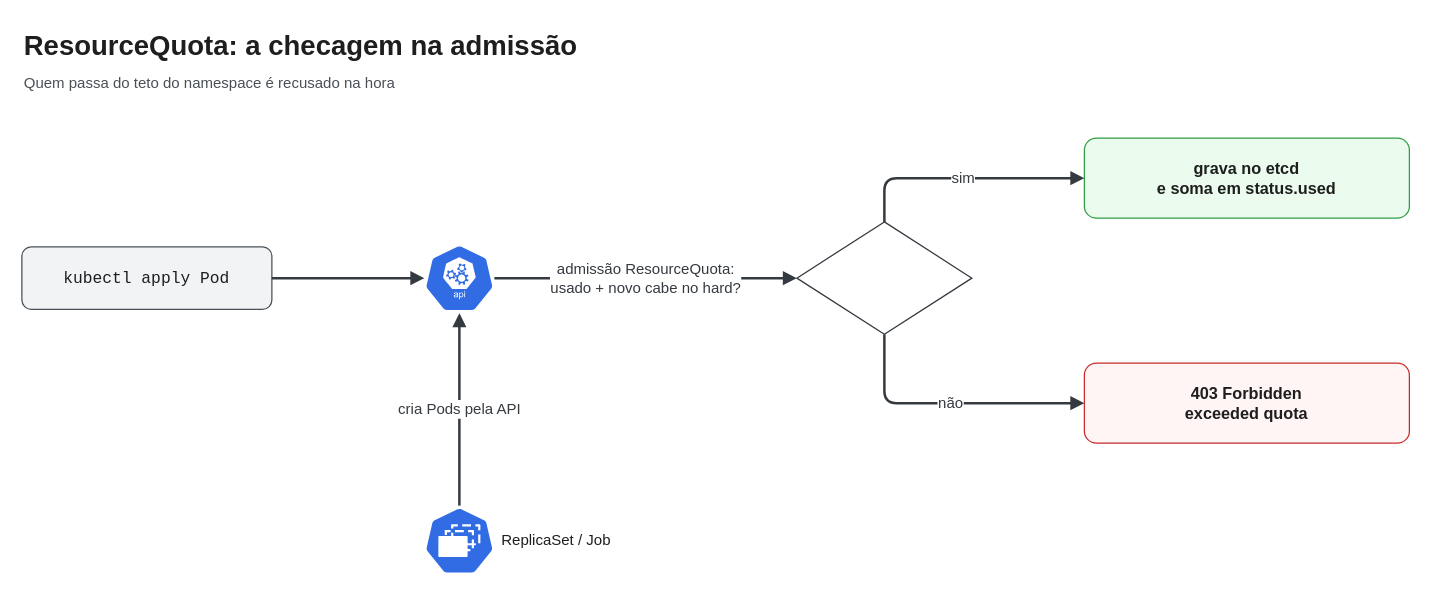
The diagram is 1444 pixels wide and 598 high, and some of its shapes have lost their labels. The shapes that lost their labels are listed below. From the top down, each one's centre as x and y in pixels, then its label:
the point at 458,277: kube-apiserver
the point at 884,277: cabe?
